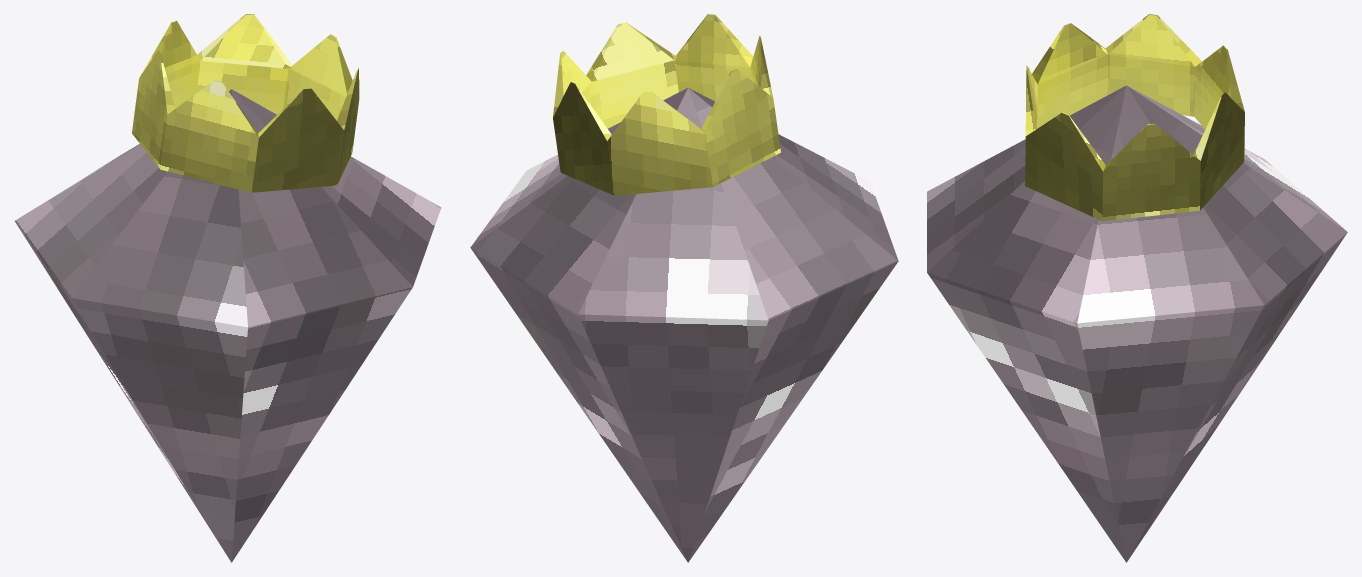
Rendered from Jewel_4.glb.
The picture shows the model from 3 angles, left to right: view 1: azimuth 30°, elevation 25°; view 2: azimuth 150°, elevation 25°; view 3: azimuth 270°, elevation 25°; orthographic projection.
Parts seen in each view (by area): view 1: Jewel, Crown; view 2: Jewel, Crown; view 3: Jewel, Crown.
Part boxes in pixels (x1,y1,x2,y2): Jewel: [14, 89, 441, 562]; Crown: [132, 14, 359, 192]; Jewel: [470, 87, 898, 562]; Crown: [553, 14, 780, 195]; Jewel: [927, 85, 1347, 562]; Crown: [1025, 14, 1244, 221].
Size of the model in its own units: 2.04 by 2.71 by 1.99.
Materials: 2 (2 with a texture image).
